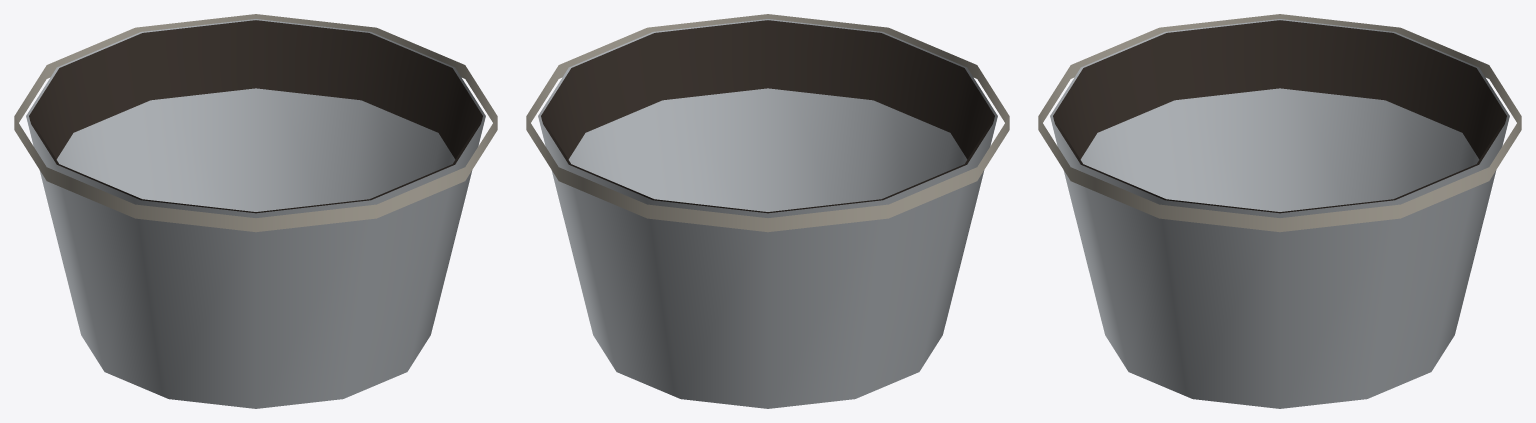
Rendered from SM_BurnBasin_Empty.glb.
3 views of the same model, side by side, from view 1: azimuth 30°, elevation 25°; view 2: azimuth 150°, elevation 25°; view 3: azimuth 270°, elevation 25° (orthographic).
Parts seen in each view (by area): view 1: thanh_chau_Empty, am_khoi_Empty, go_mieng_Empty; view 2: thanh_chau_Empty, am_khoi_Empty, go_mieng_Empty; view 3: thanh_chau_Empty, am_khoi_Empty, go_mieng_Empty.
Part boxes in pixels (bbox=[...]): thanh_chau_Empty: bbox=[26, 19, 485, 408]; am_khoi_Empty: bbox=[29, 20, 482, 213]; go_mieng_Empty: bbox=[14, 14, 497, 232]; thanh_chau_Empty: bbox=[538, 19, 997, 408]; am_khoi_Empty: bbox=[541, 20, 994, 213]; go_mieng_Empty: bbox=[526, 14, 1009, 232]; thanh_chau_Empty: bbox=[1050, 19, 1509, 408]; am_khoi_Empty: bbox=[1053, 20, 1506, 213]; go_mieng_Empty: bbox=[1038, 14, 1521, 232].
Bounding box in the file's own units: 0.5 × 0.25 × 0.5.
